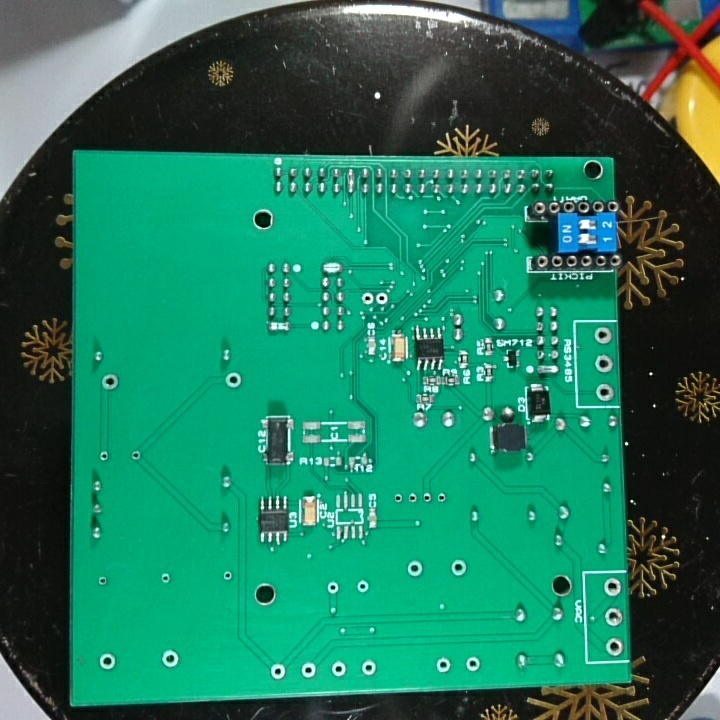F: (601, 605, 626, 630), (601, 635, 627, 659), (601, 575, 624, 600), (159, 646, 181, 669), (99, 372, 121, 395), (593, 352, 614, 376), (97, 649, 118, 672), (592, 324, 613, 346), (223, 370, 243, 393), (328, 658, 350, 678), (449, 558, 470, 578), (299, 660, 319, 680), (406, 559, 425, 580), (360, 658, 379, 679), (594, 382, 614, 401), (268, 660, 287, 680), (434, 655, 452, 676), (463, 655, 482, 674), (353, 578, 372, 596), (324, 579, 343, 597), (359, 290, 375, 308), (375, 288, 390, 306), (390, 491, 406, 507), (433, 489, 448, 506), (96, 573, 111, 590), (419, 489, 433, 506), (157, 571, 174, 585), (129, 448, 143, 464), (222, 568, 236, 583), (407, 489, 419, 506), (98, 448, 110, 465)
P: (535, 363, 561, 378), (345, 166, 357, 195), (320, 261, 344, 275), (265, 318, 295, 325)
